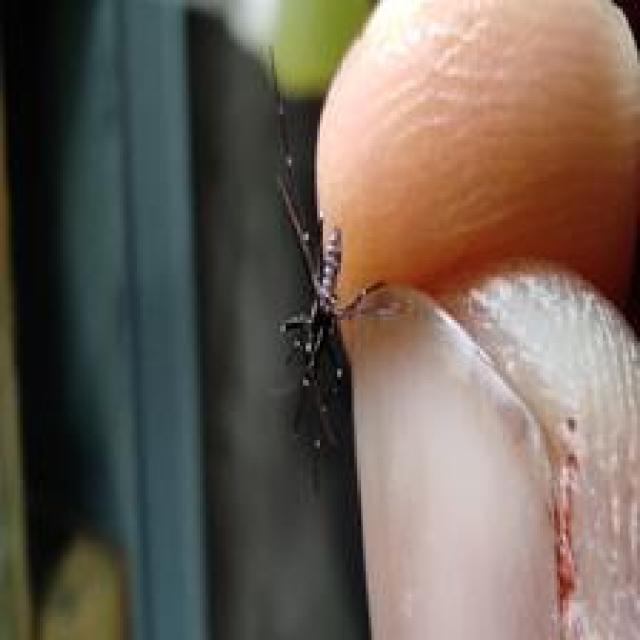Aedes albopictus: (263, 14, 640, 640)
